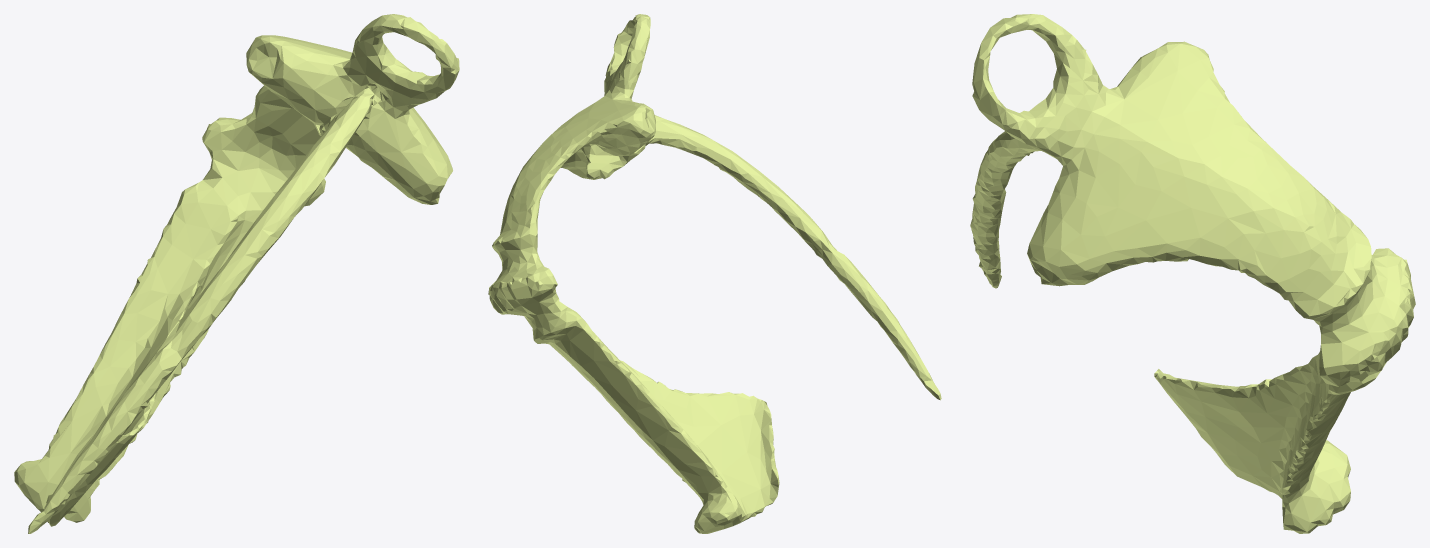
The model's file is web5.dae.
3 views of the same model, side by side, from view 1: azimuth 30°, elevation 25°; view 2: azimuth 150°, elevation 25°; view 3: azimuth 270°, elevation 25° (orthographic). The views are drawn at different scales.
Parts seen in each view (by area): view 1: ShapwickScaled; view 2: ShapwickScaled; view 3: ShapwickScaled.
Part boxes in pixels (x1,y1,x2,y2): ShapwickScaled: (14, 14, 459, 533); ShapwickScaled: (488, 14, 941, 533); ShapwickScaled: (970, 14, 1415, 533).
Bounding box in the file's own units: 231 × 166 × 260.
